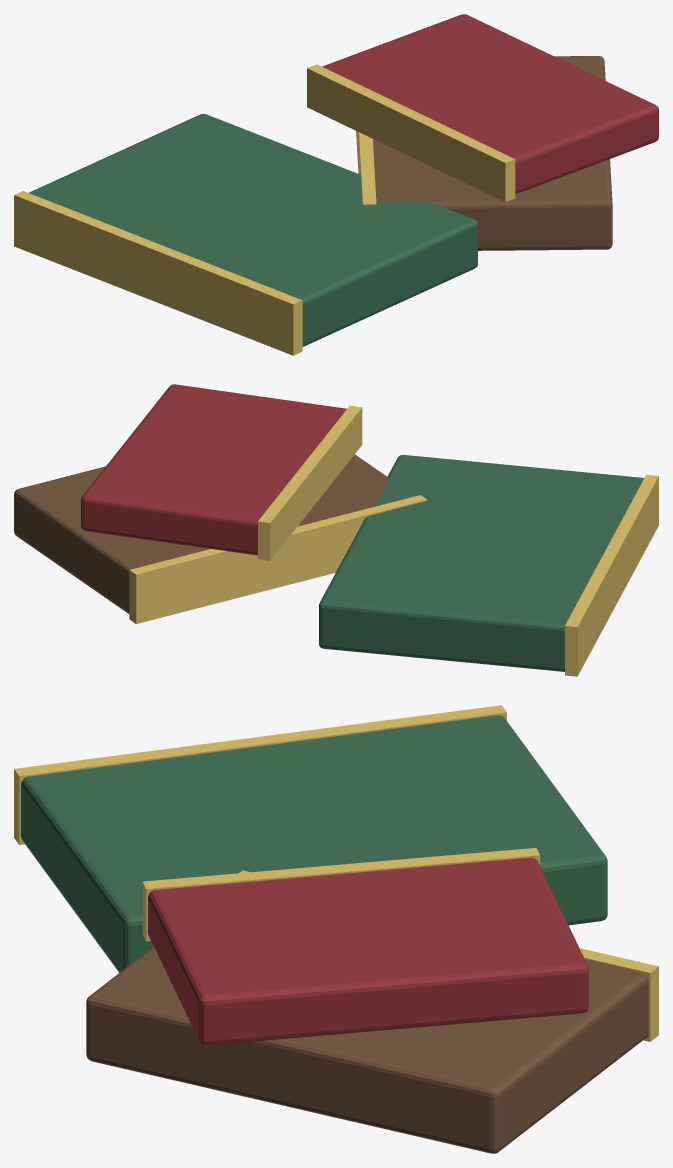
File: book_stack_scattered_pair.glb
3 views of the same model, one above another, from view 1: azimuth 30°, elevation 25°; view 2: azimuth 150°, elevation 25°; view 3: azimuth 270°, elevation 25° (orthographic). The views are drawn at different scales.
Parts seen in each view (by area): view 1: GD_book_stack_scattered_pair__m0, GD_book_stack_scattered_pair__m4, GD_book_stack_scattered_pair__m2, GD_book_stack_scattered_pair__m3; view 2: GD_book_stack_scattered_pair__m0, GD_book_stack_scattered_pair__m4, GD_book_stack_scattered_pair__m2, GD_book_stack_scattered_pair__m3; view 3: GD_book_stack_scattered_pair__m0, GD_book_stack_scattered_pair__m4, GD_book_stack_scattered_pair__m3, GD_book_stack_scattered_pair__m2.
Boxes of the visible parts, box(x1,y1,x2,y2) form: GD_book_stack_scattered_pair__m0: box(29, 113, 477, 346); GD_book_stack_scattered_pair__m4: box(322, 14, 658, 193); GD_book_stack_scattered_pair__m2: box(14, 64, 515, 355); GD_book_stack_scattered_pair__m3: box(373, 56, 612, 250); GD_book_stack_scattered_pair__m0: box(319, 455, 644, 671); GD_book_stack_scattered_pair__m4: box(81, 384, 346, 555); GD_book_stack_scattered_pair__m2: box(129, 405, 658, 676); GD_book_stack_scattered_pair__m3: box(14, 454, 389, 613); GD_book_stack_scattered_pair__m0: box(21, 715, 607, 972); GD_book_stack_scattered_pair__m4: box(148, 857, 588, 1045); GD_book_stack_scattered_pair__m3: box(86, 946, 648, 1153); GD_book_stack_scattered_pair__m2: box(14, 705, 658, 1041).
Bounding box in the file's own units: 0.5019 × 0.077 × 0.3562.
